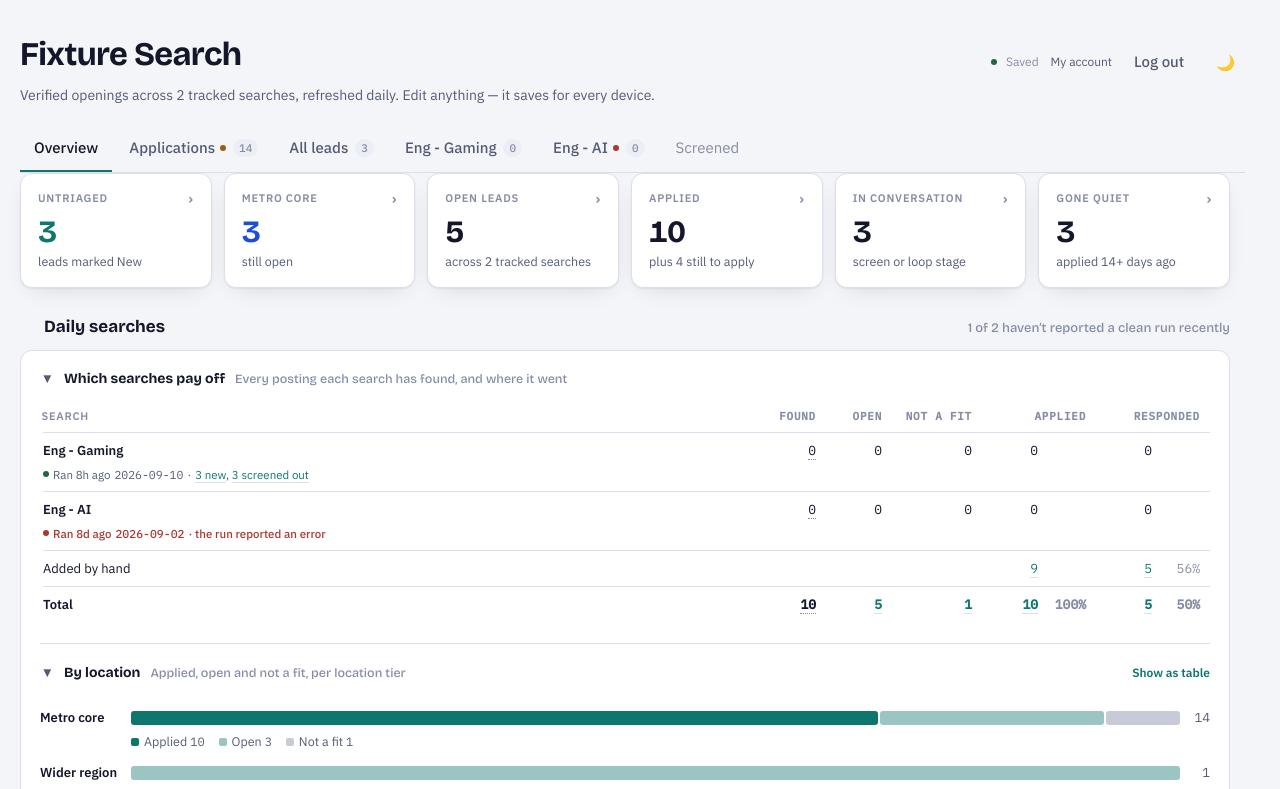
Test case: the resume list › still lists everything when a Word file stored before Word support has no text, and offers it to no search
Expected: the heading "Fixture Search" is shown, [20,34,241,74]
Step 1. Click the button "My account" → [1081, 62], box [1051,53,1112,71]
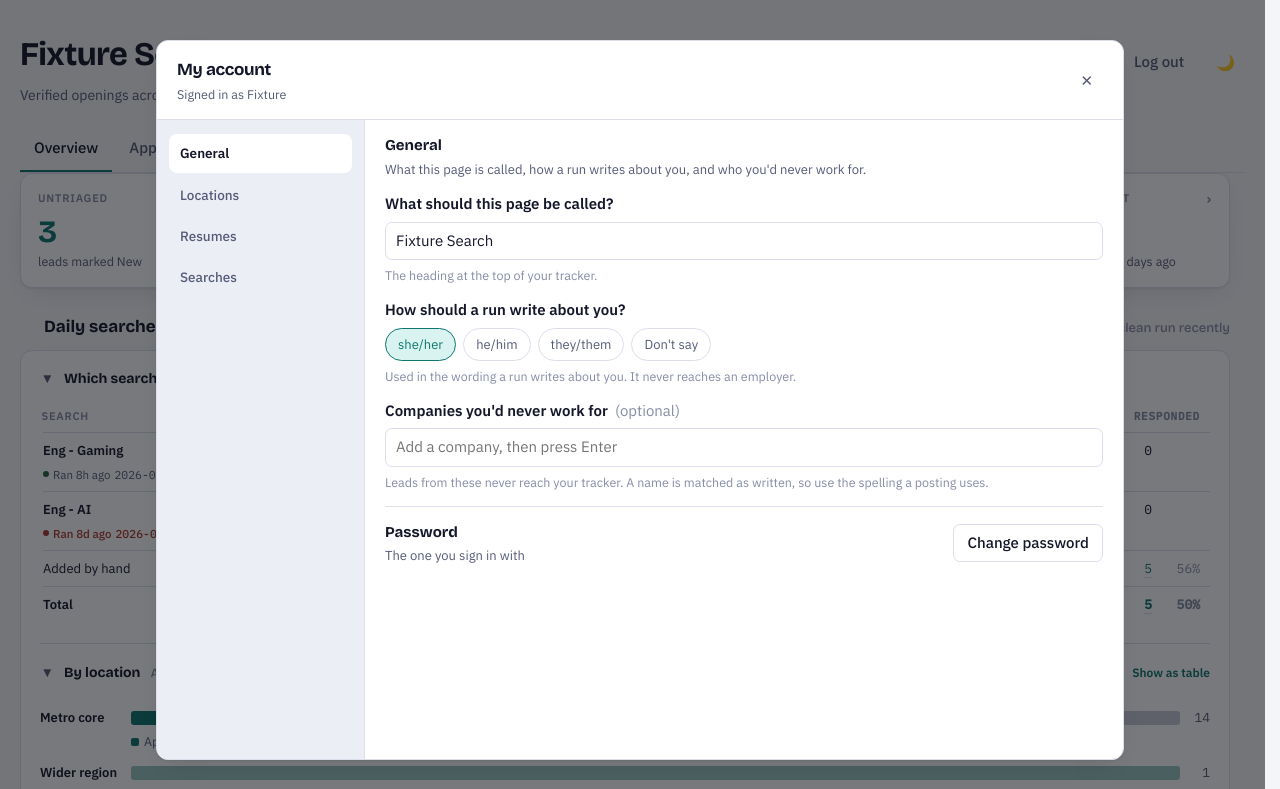
Step 2. Click the button "Resumes" → [260, 236], box [169,217,352,255]
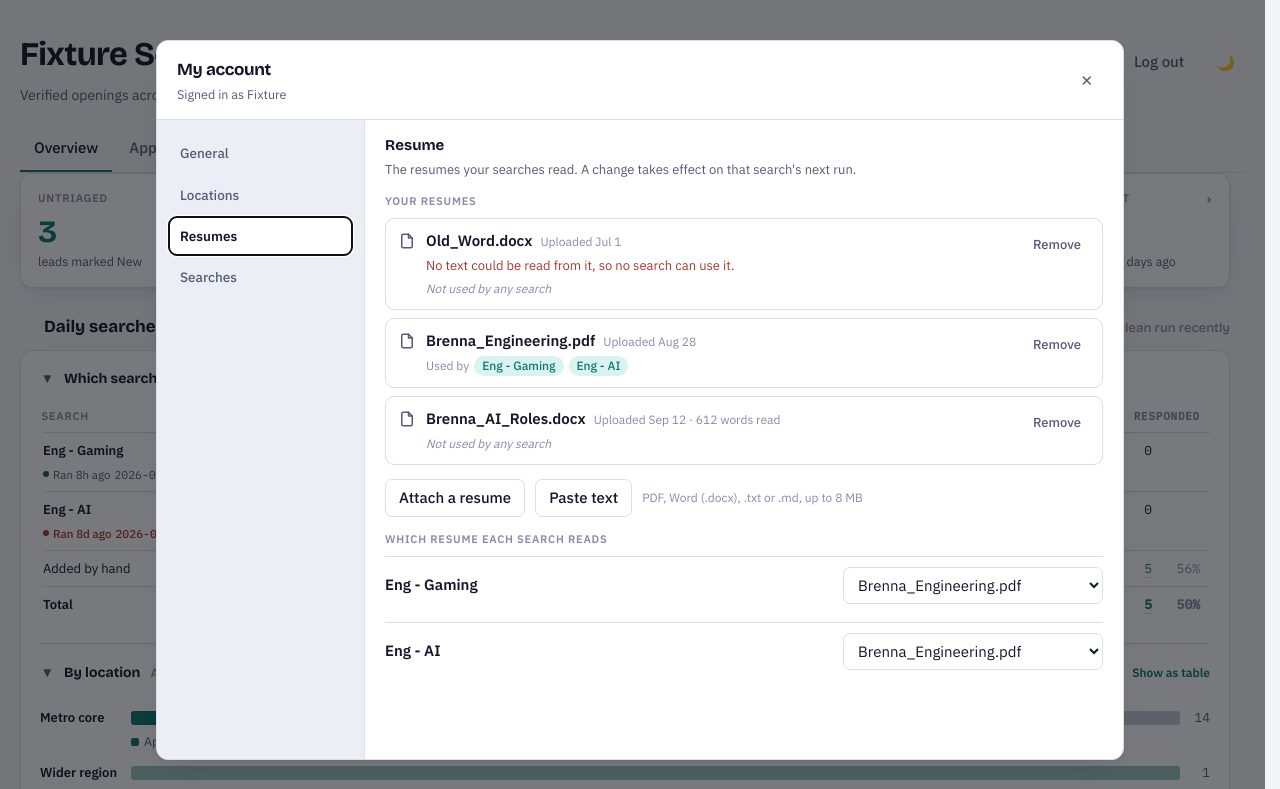
Result: the text "Brenna_Engineering.pdf" is shown at [426,330,595,352]
Result: the text "Old_Word.docx" shows "No text could be read from it" at [426,257,734,274]
